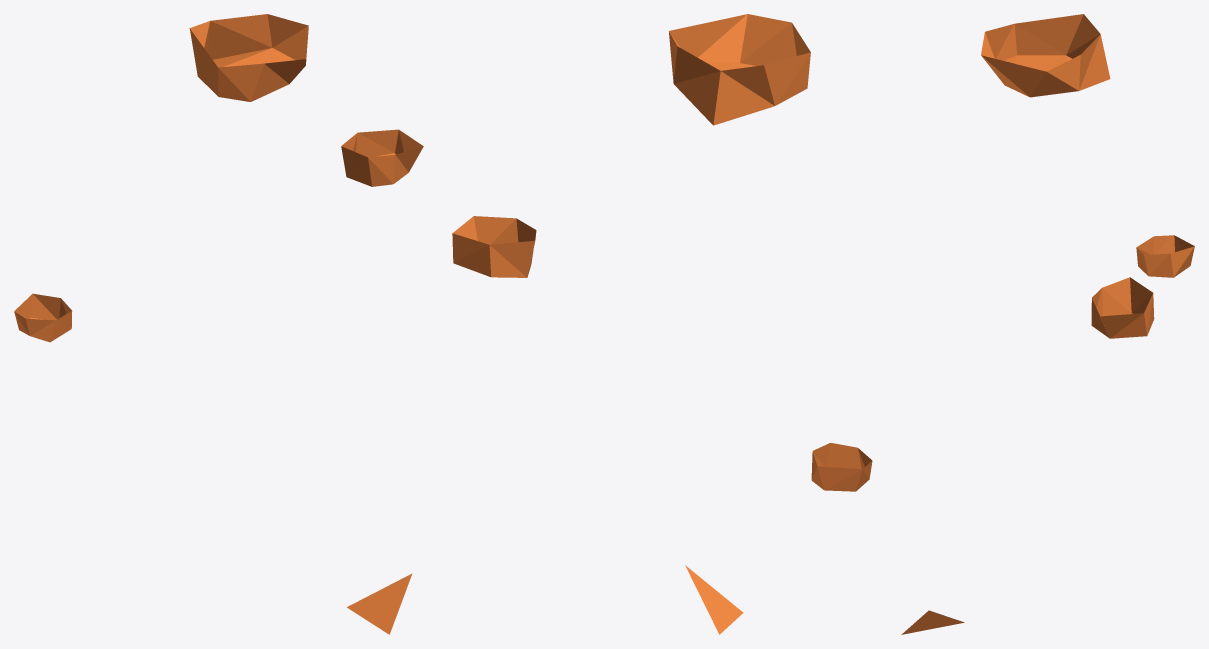
File: vent_chimney_glow.fbx
The picture shows the model from 3 angles, left to right: view 1: azimuth 30°, elevation 25°; view 2: azimuth 150°, elevation 25°; view 3: azimuth 270°, elevation 25°; orthographic projection. The views are drawn at different scales.
Visible parts, largest first — view 1: vent_chimney_glow; view 2: vent_chimney_glow; view 3: vent_chimney_glow.
Part boxes in pixels (x1,y1,x2,y2): vent_chimney_glow: [14, 14, 423, 634]; vent_chimney_glow: [452, 14, 872, 634]; vent_chimney_glow: [901, 14, 1194, 634].
Bounding box in the file's own units: 826 × 1200 × 563.
1 material, 1 textured.
